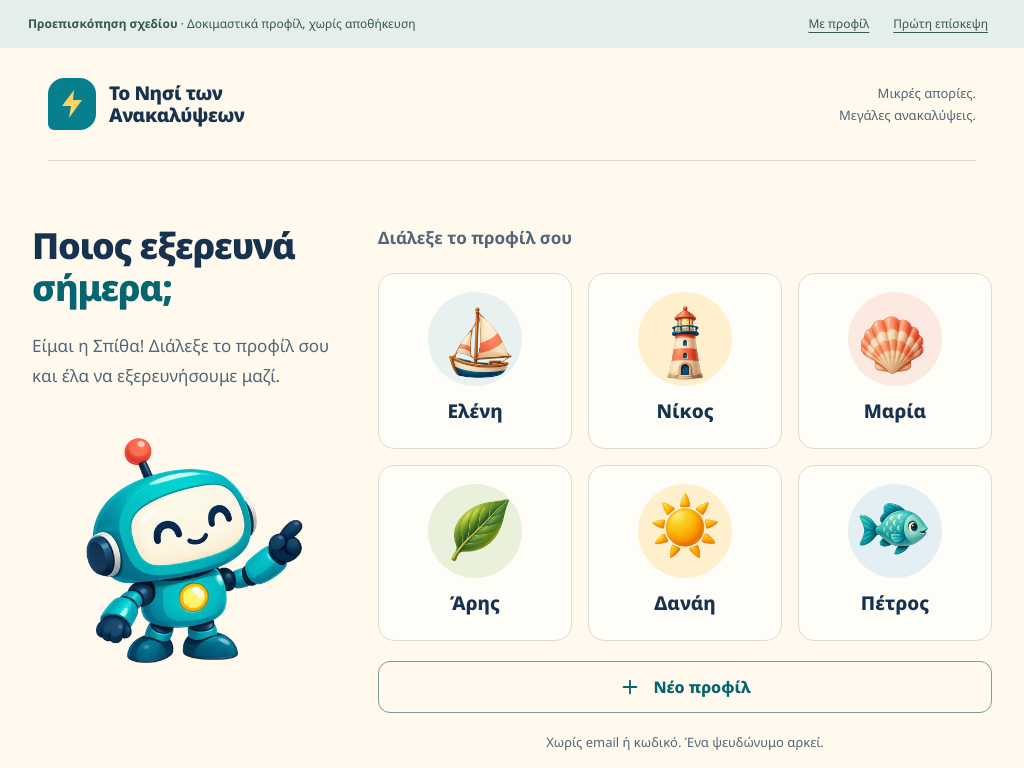
topic map › lists missions as stations, locking those that need the first one
Click the button with aria-label "Νίκος, Φάρος" at (685, 360), box [588,272,782,448]
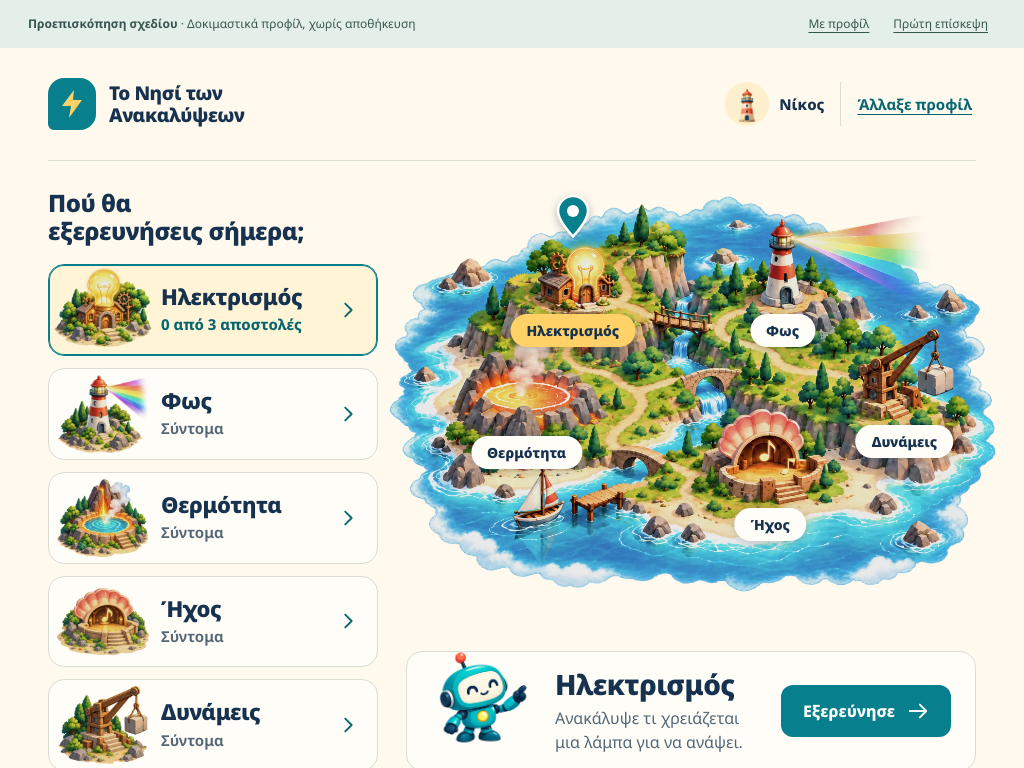
Click the link "Ηλεκτρισμός 0 από 3 αποστολές" at (213, 310), box [48,264,378,356]
(page scrolled)
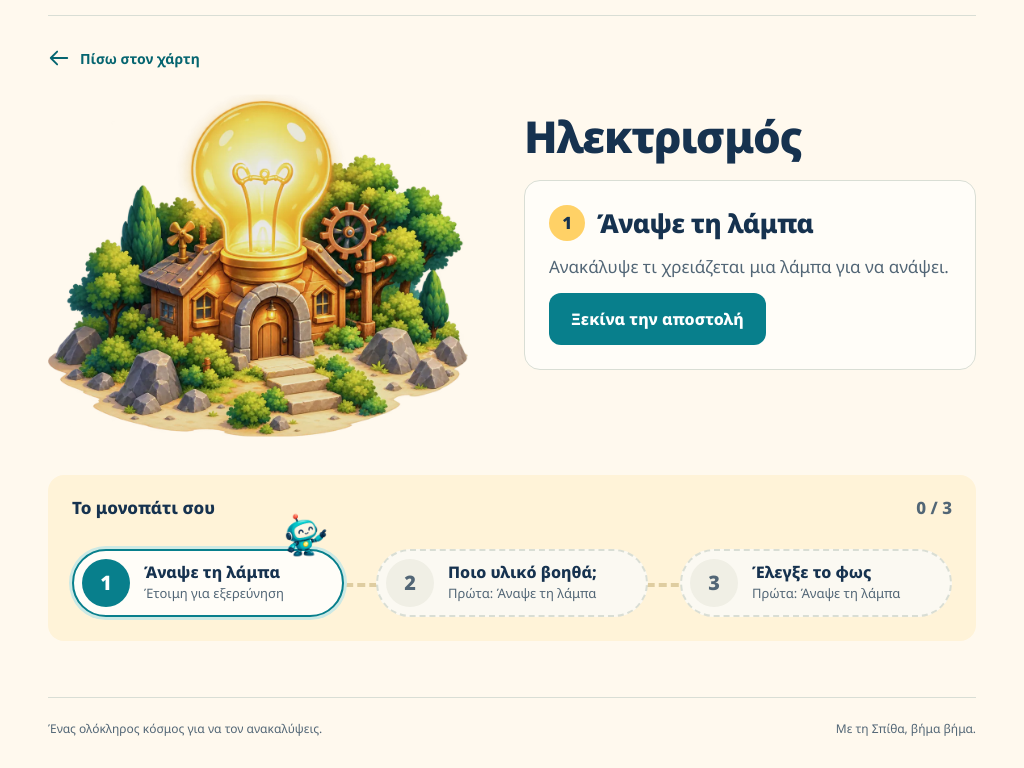
Check: the heading "Το μονοπάτι σου 0 / 3" is shown, box [72,495,952,521]
Check: the button with aria-label "Άναψε τη λάμπα," shows "Έτοιμη για εξερεύνηση", box [72,549,344,617]
Check: the picture named "Η Σπίθα είναι εδώ" is shown, box [278,511,330,559]
Click the button with aria-label "Έλεγξε το φως," at (816, 583), box [680,549,952,617]
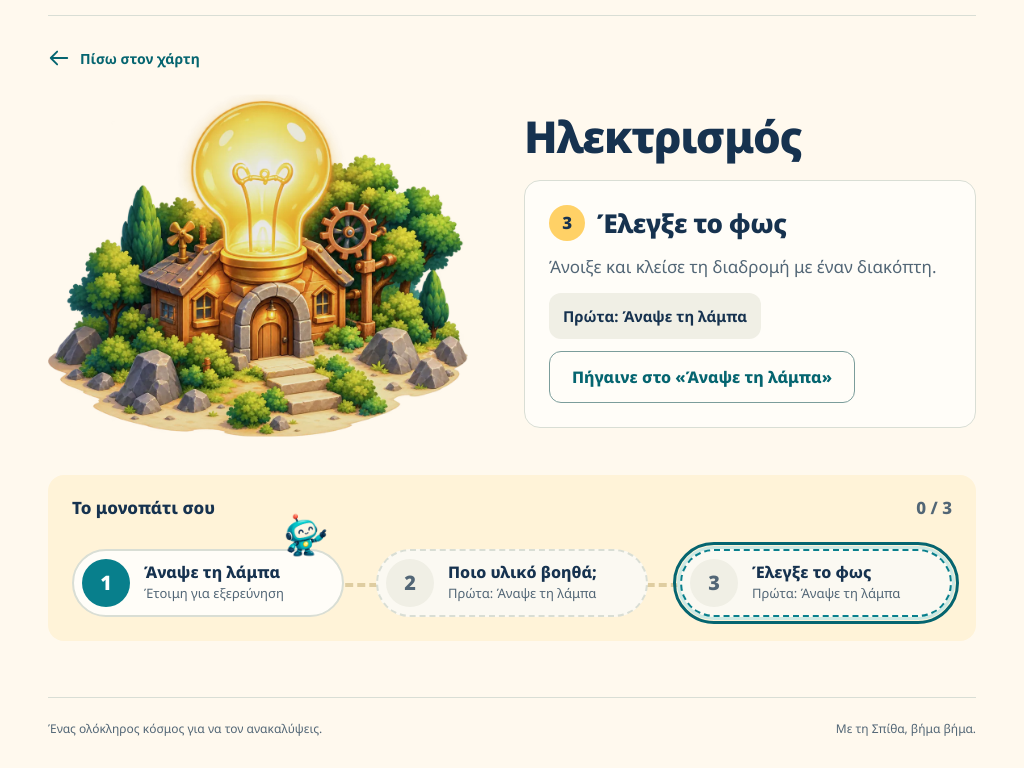
Check: the heading "3 Έλεγξε το φως" is shown, box [549,205,787,241]
Check: the link "Ξεκίνα την αποστολή" is gone
Click the button "Πήγαινε στο «Άναψε τη λάμπα»" at (702, 377), box [549,351,855,403]
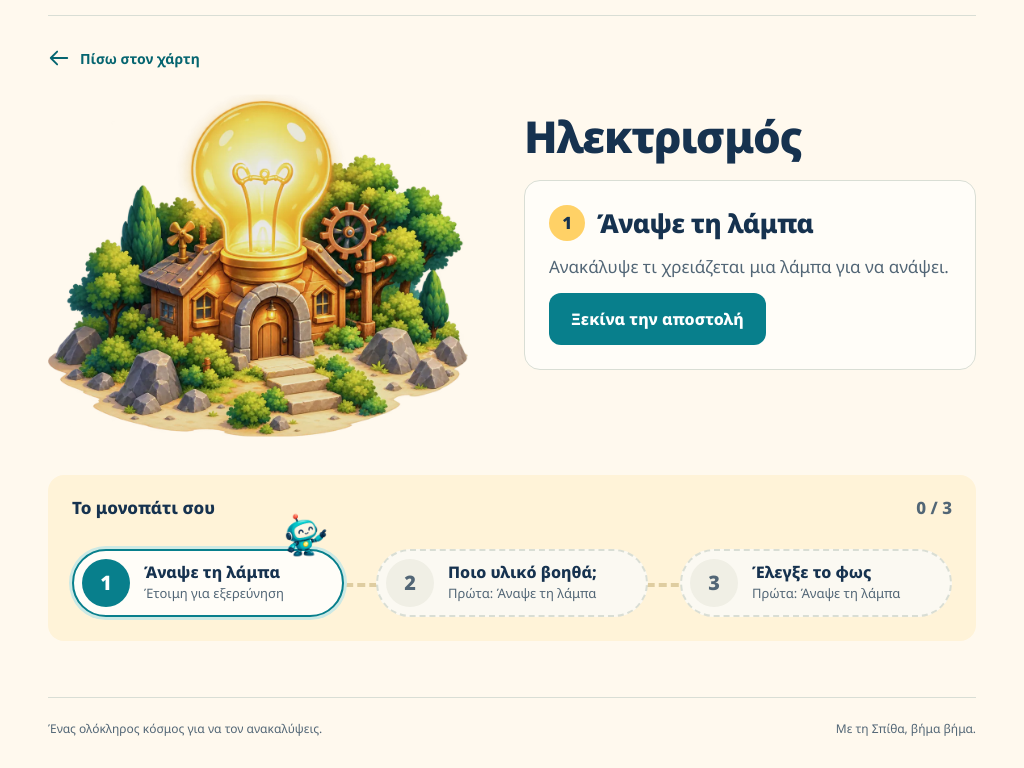
Check: the heading "1 Άναψε τη λάμπα" is shown, box [549,205,814,241]
